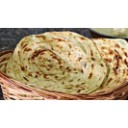parota: (8, 32, 103, 93)
